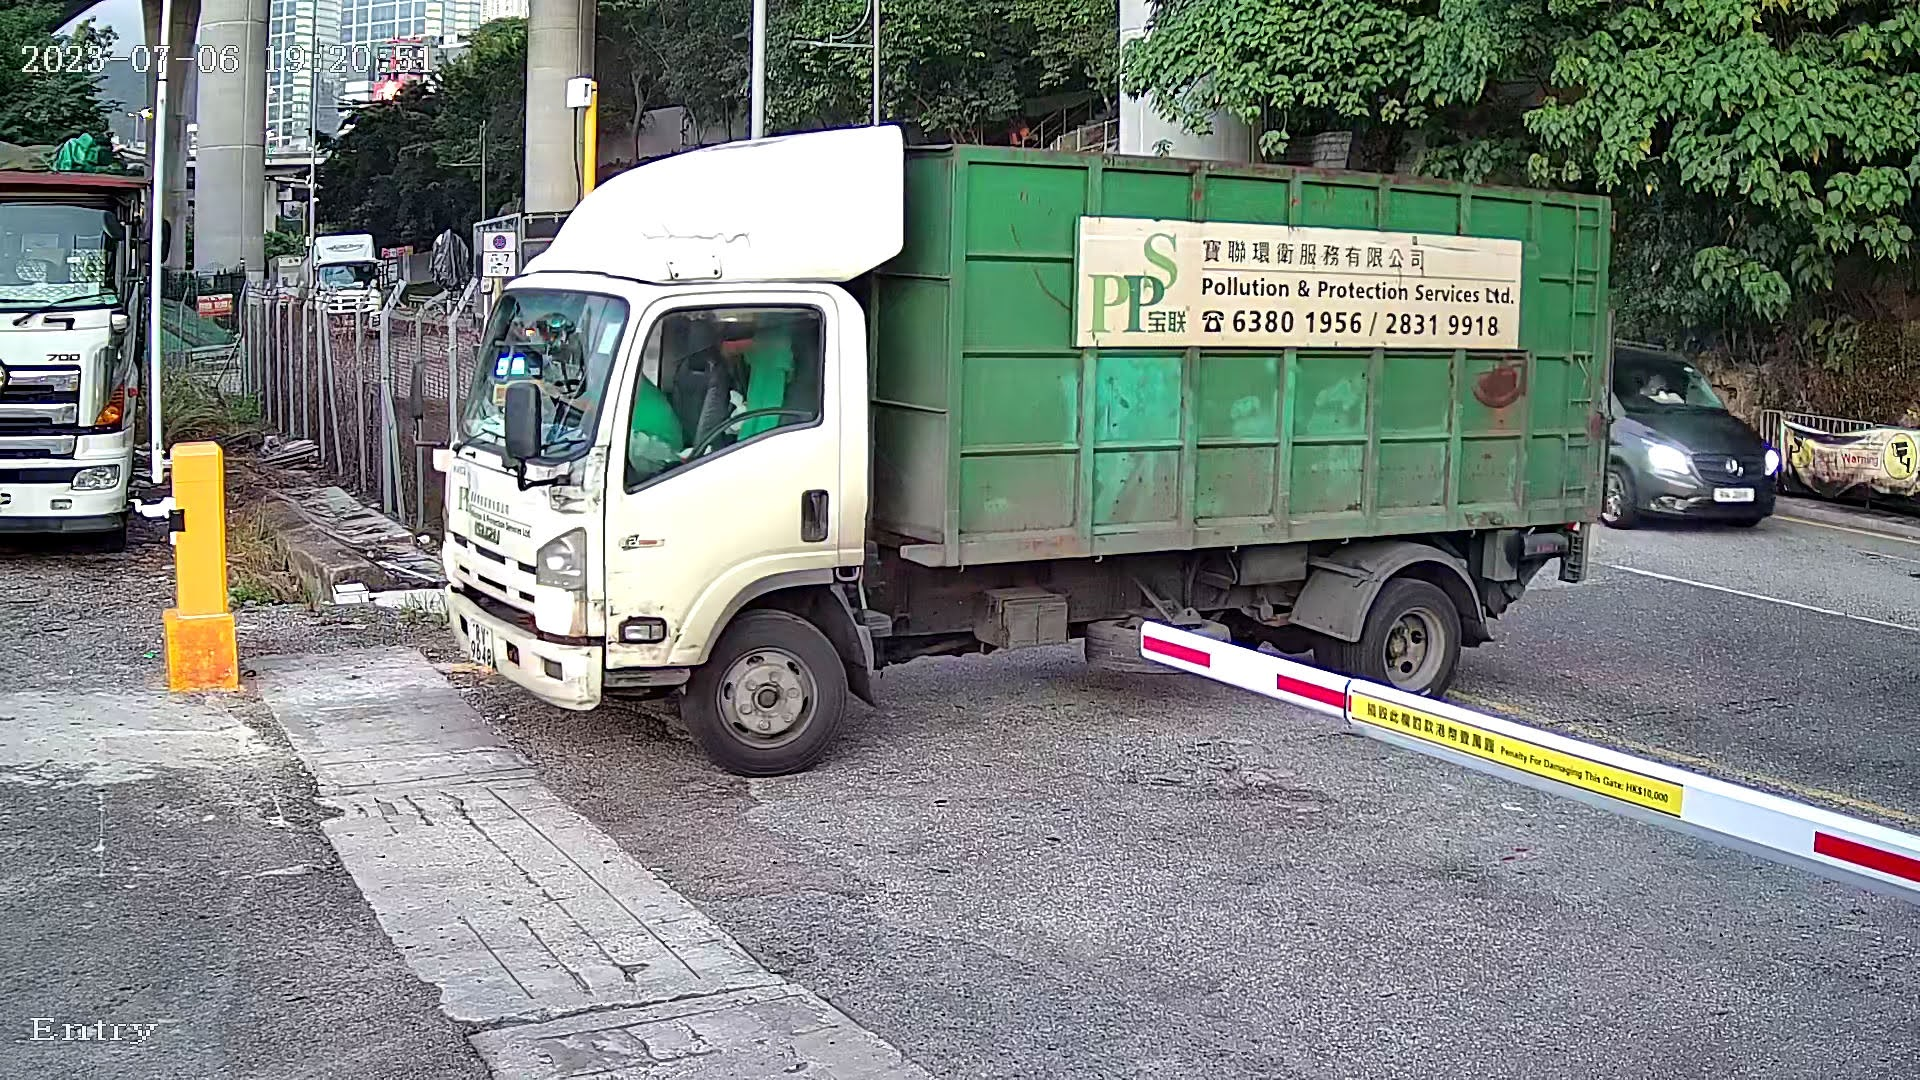truck_small: (377, 73, 1663, 802)
